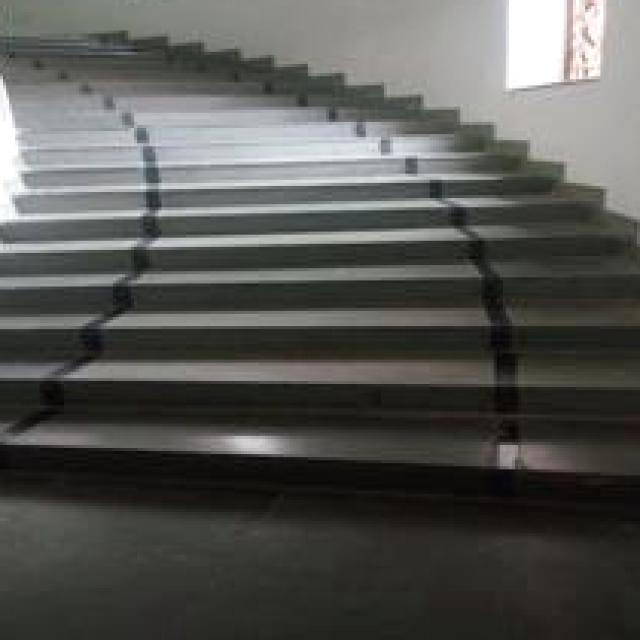upstair: (68, 214, 528, 507)
